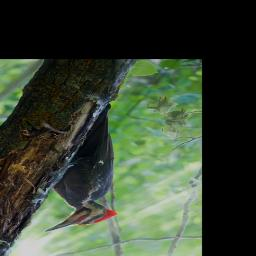Woodpecker: (43, 103, 120, 233)
